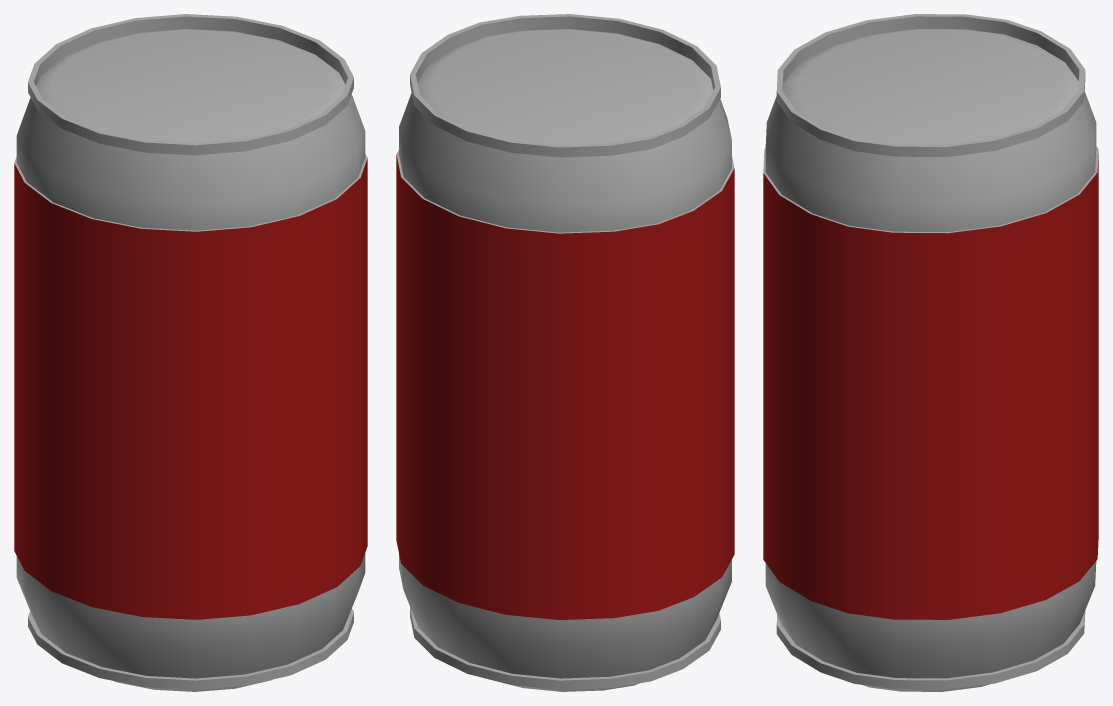
Rendered from new_can_no_label.fbx.
3 renders of one model, left to right at view 1: azimuth 30°, elevation 25°; view 2: azimuth 150°, elevation 25°; view 3: azimuth 270°, elevation 25°, orthographic.
Visible parts, largest first — view 1: pCylinder1; view 2: pCylinder1; view 3: pCylinder1.
Boxes of the visible parts, box(x1,y1,x2,y2) form: pCylinder1: box(14, 14, 367, 691); pCylinder1: box(396, 14, 734, 691); pCylinder1: box(763, 14, 1098, 691).
Bounding box in the file's own units: 1.95 × 3.51 × 1.91.
